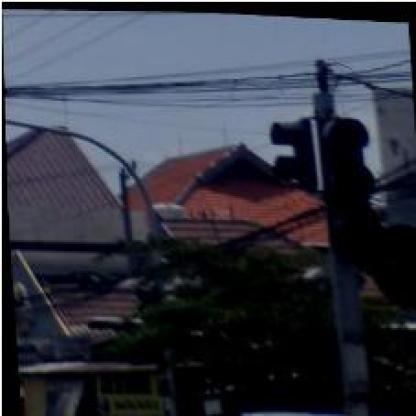green: (319, 113, 377, 250)
